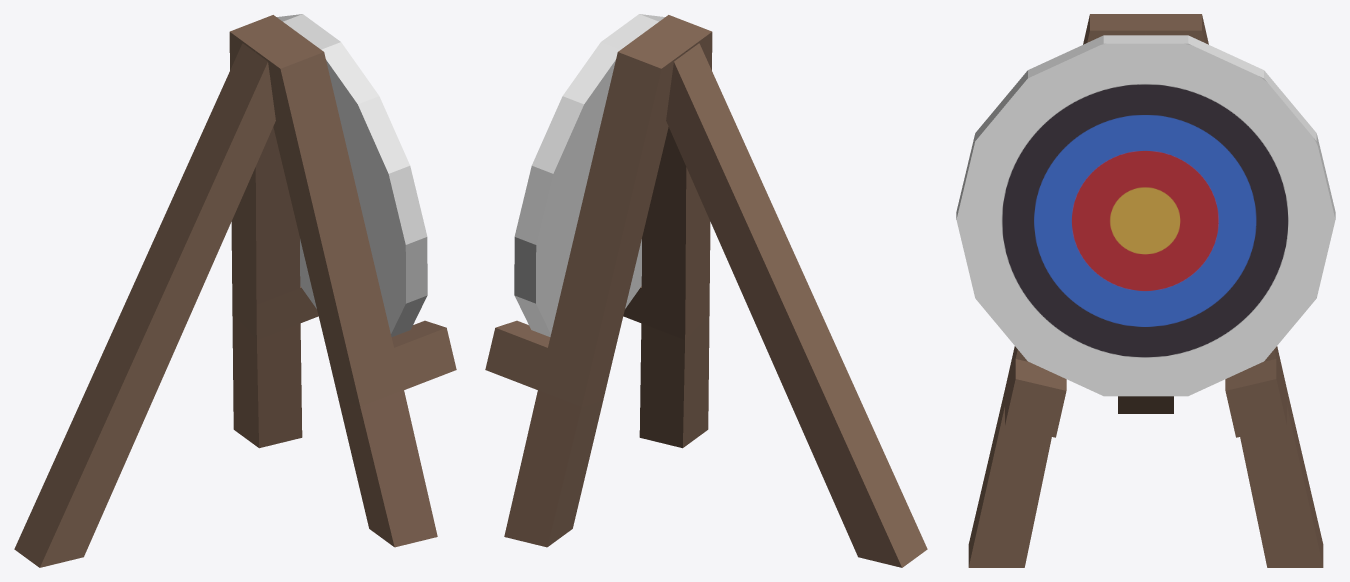
File: Target.fbx
3 renders of one model, left to right at view 1: azimuth 30°, elevation 25°; view 2: azimuth 150°, elevation 25°; view 3: azimuth 270°, elevation 25°, orthographic. The views are drawn at different scales.
Visible parts, largest first — view 1: Stand, Target; view 2: Stand, Target; view 3: Target, Stand.
Boxes of the visible parts, bbox=[...] form: Stand: bbox=[14, 15, 456, 567]; Target: bbox=[277, 14, 427, 336]; Stand: bbox=[485, 15, 927, 567]; Target: bbox=[514, 14, 664, 336]; Target: bbox=[956, 35, 1335, 396]; Stand: bbox=[968, 14, 1323, 567].
Size of the model in its own units: 166 by 199 by 135.
